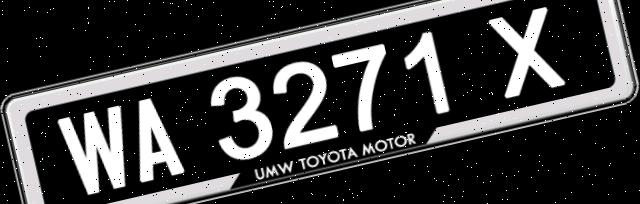License_Plate: (1, 1, 640, 204)
